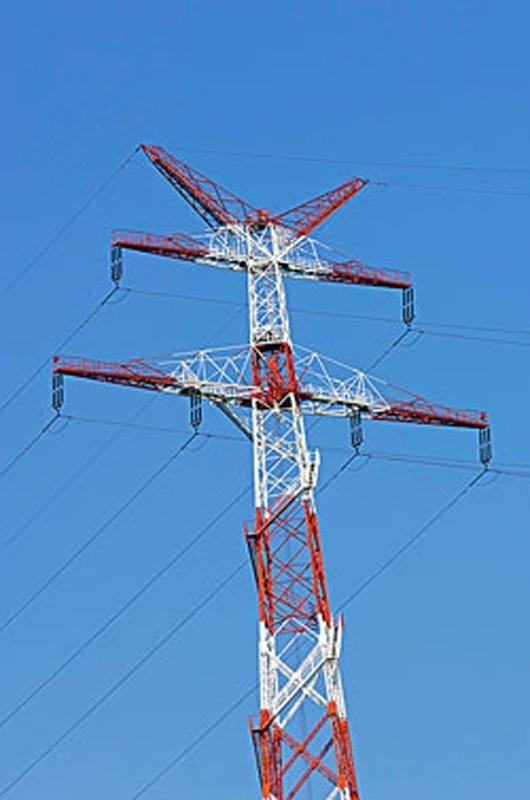power_tower: (49, 111, 480, 735)
